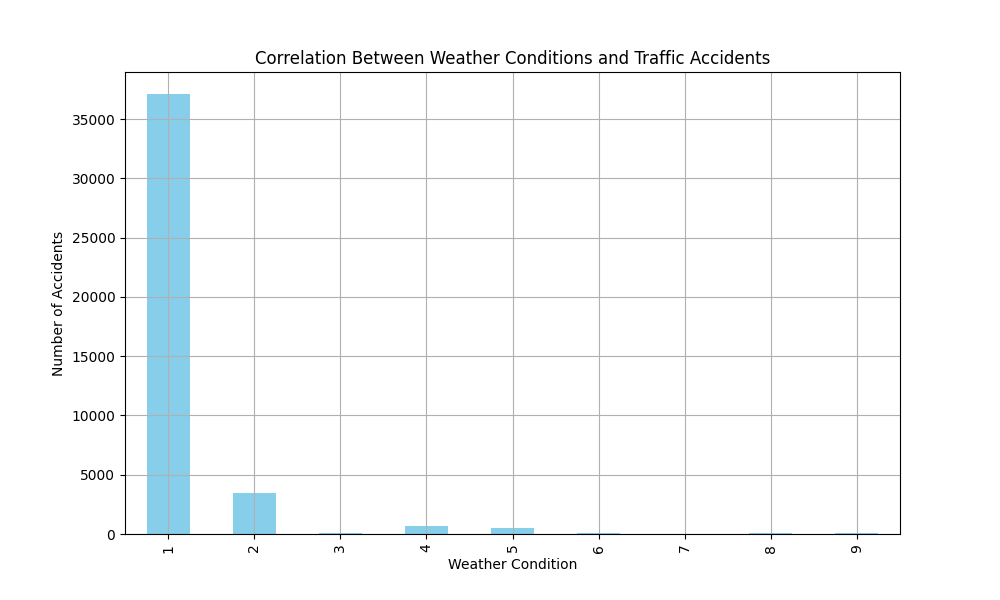

The dashboard page shown, as its layout file describes it:
{"tool":"tableau","page":{"name":"Dashboard 1","canvas":[1000,1000],"units":"permille","ordinal":0},"visuals":[{"type":"worksheet","title":"Sheet 2","mark":"Bar","rows":["count"],"cols":["date","date"],"box":[1.8,480.7,991,499.4]}]}

Visuals, with their boxes on the dashboard's canvas, which has no fixed pixel size, in thousandths of its width and height (x1, y1, x2, y2). These are canvas units, not pixel positions in the 1000x600 screenshot, which may show the page scaled, cropped or inside an application window:
"Sheet 2" worksheet (Bar marks): <region>2, 481, 993, 980</region>
